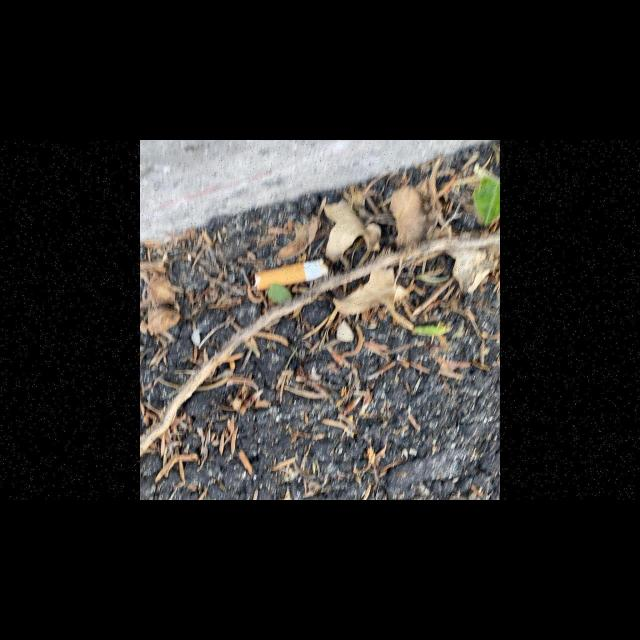cigarette: (253, 257, 329, 291)
